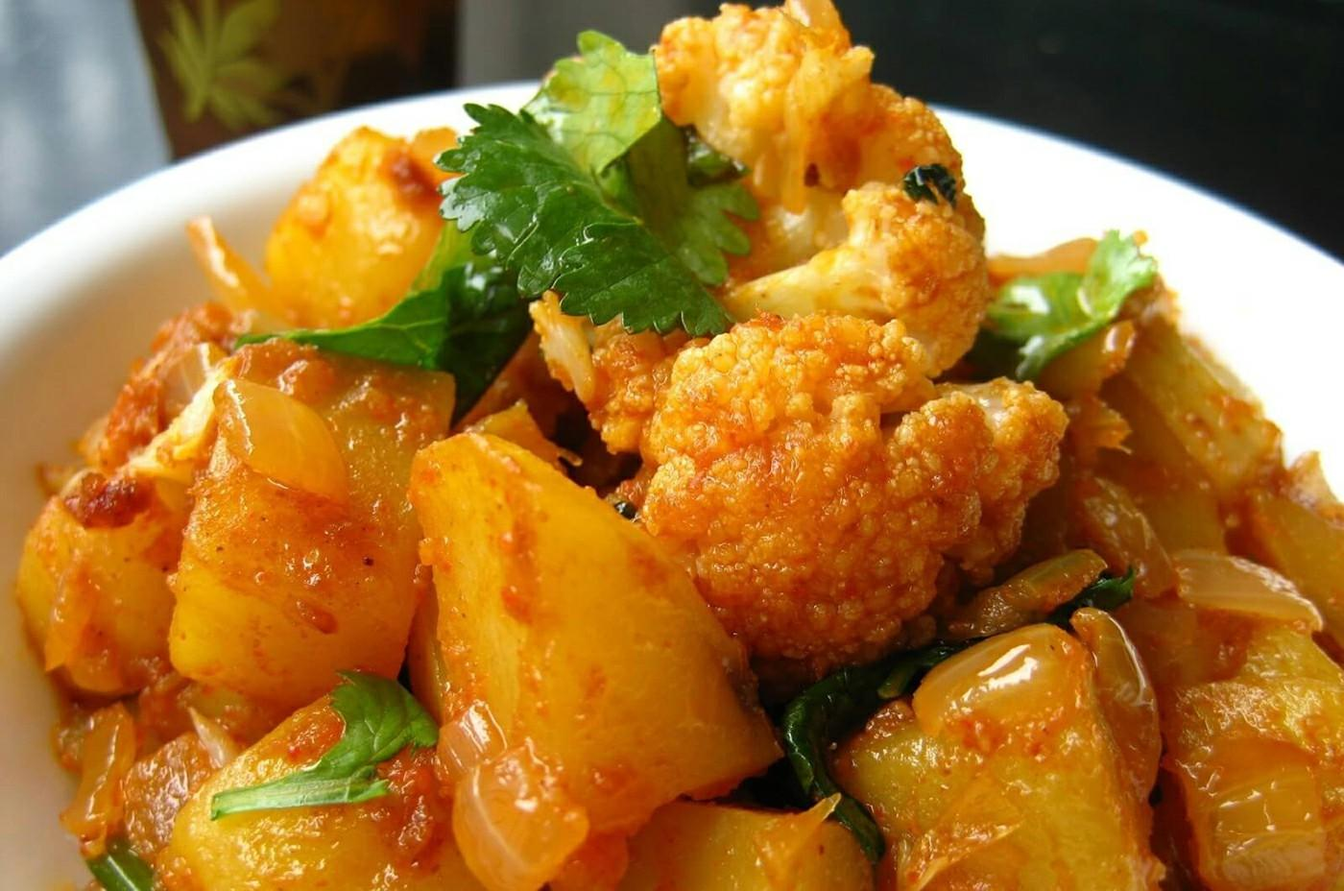AlooGobi: (17, 0, 1344, 891)
